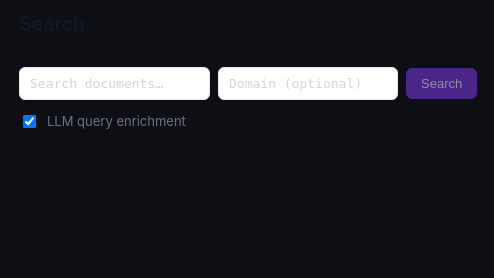
Test: SearchPage › shows no results message when empty
Type "noresults" into the field named "query" at (114, 84), box 19,67 -> 210,100
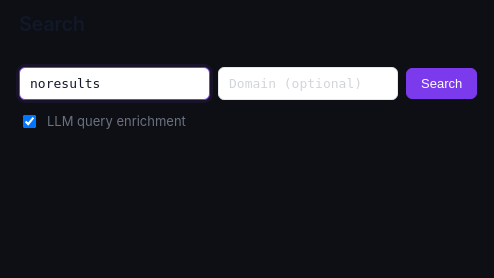
Click the button "Search" at (442, 84), box 406,68 -> 477,99
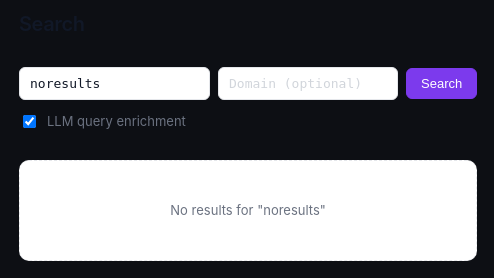
Now the text "No results for \"noresults\"" is shown, box 19,160 -> 477,261
